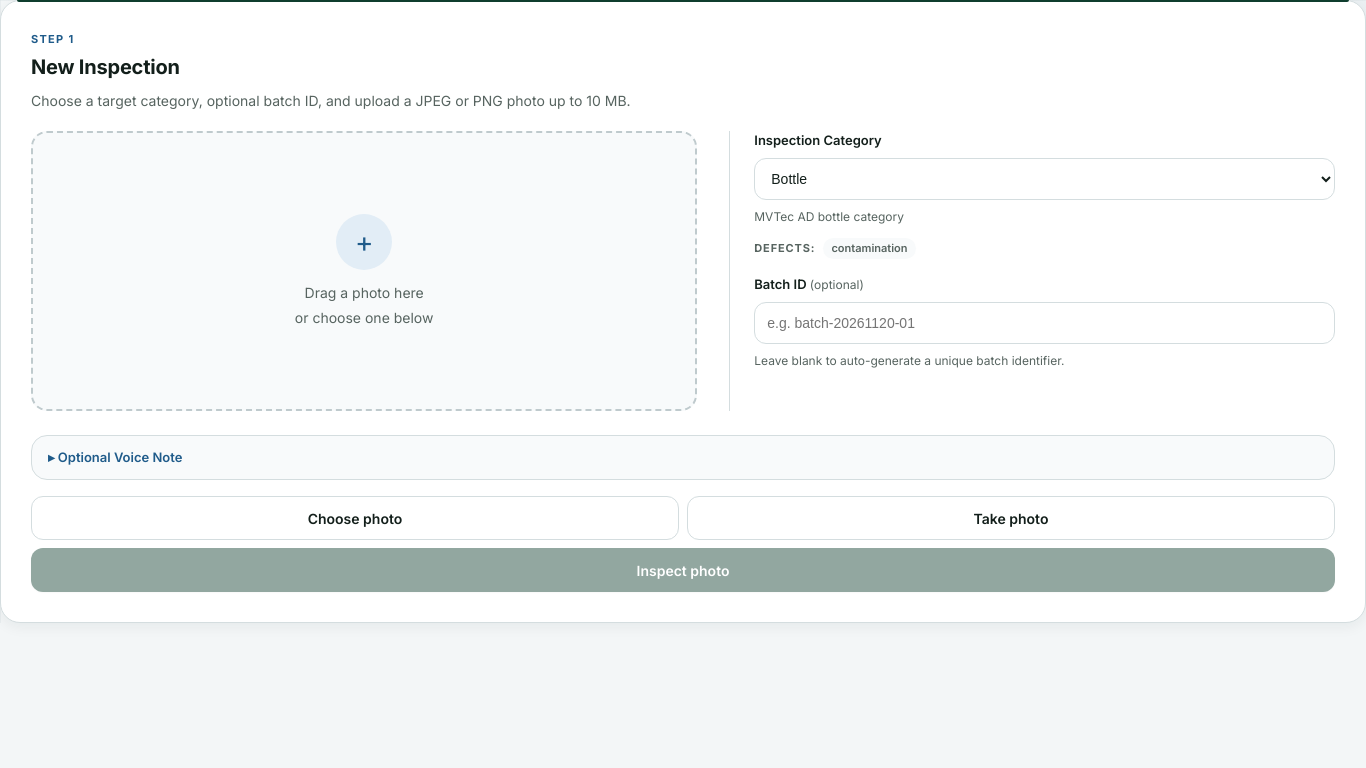
Test case: UploadPanel › explains a denied microphone permission
Click the button "▸ Optional Voice Note": {"x": 118, "y": 456} [48,448,1318,467]
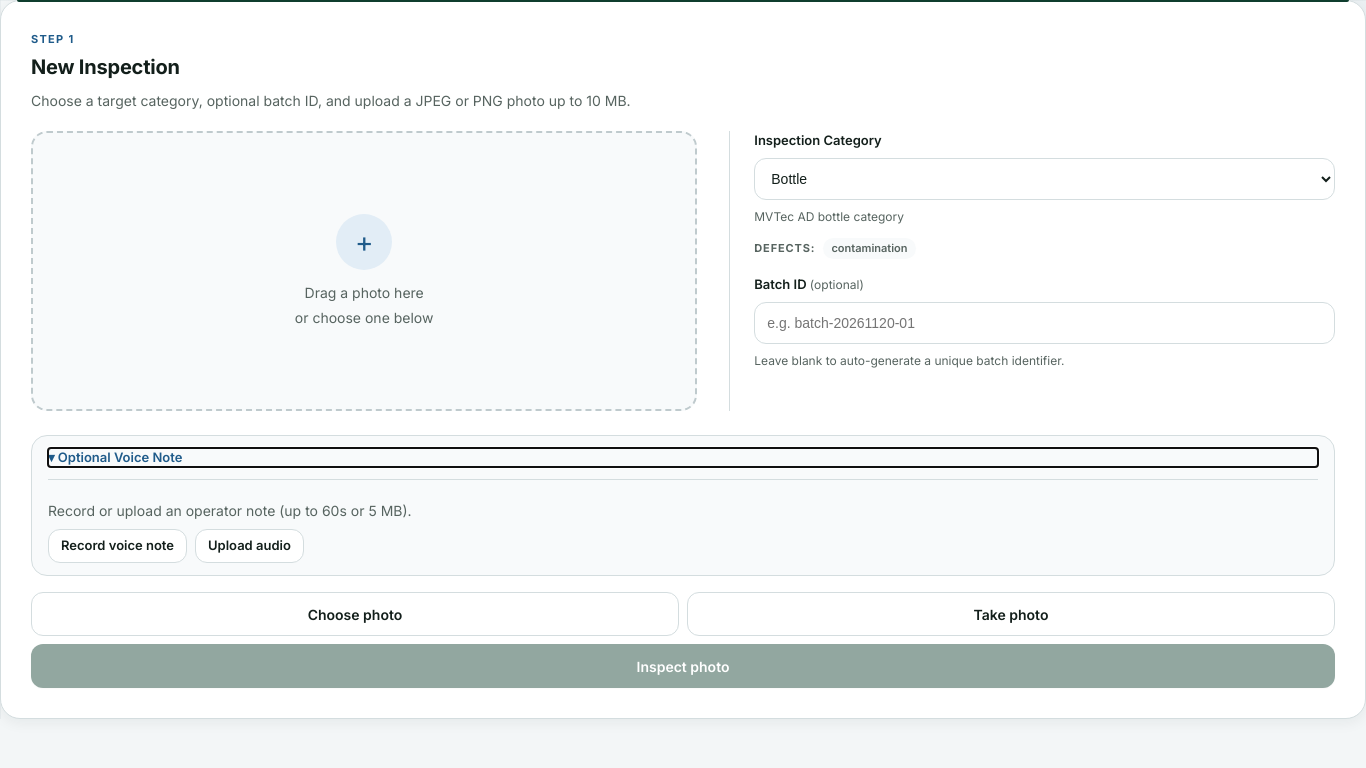
Click the button "Record voice note": {"x": 118, "y": 546} [48,529,187,563]
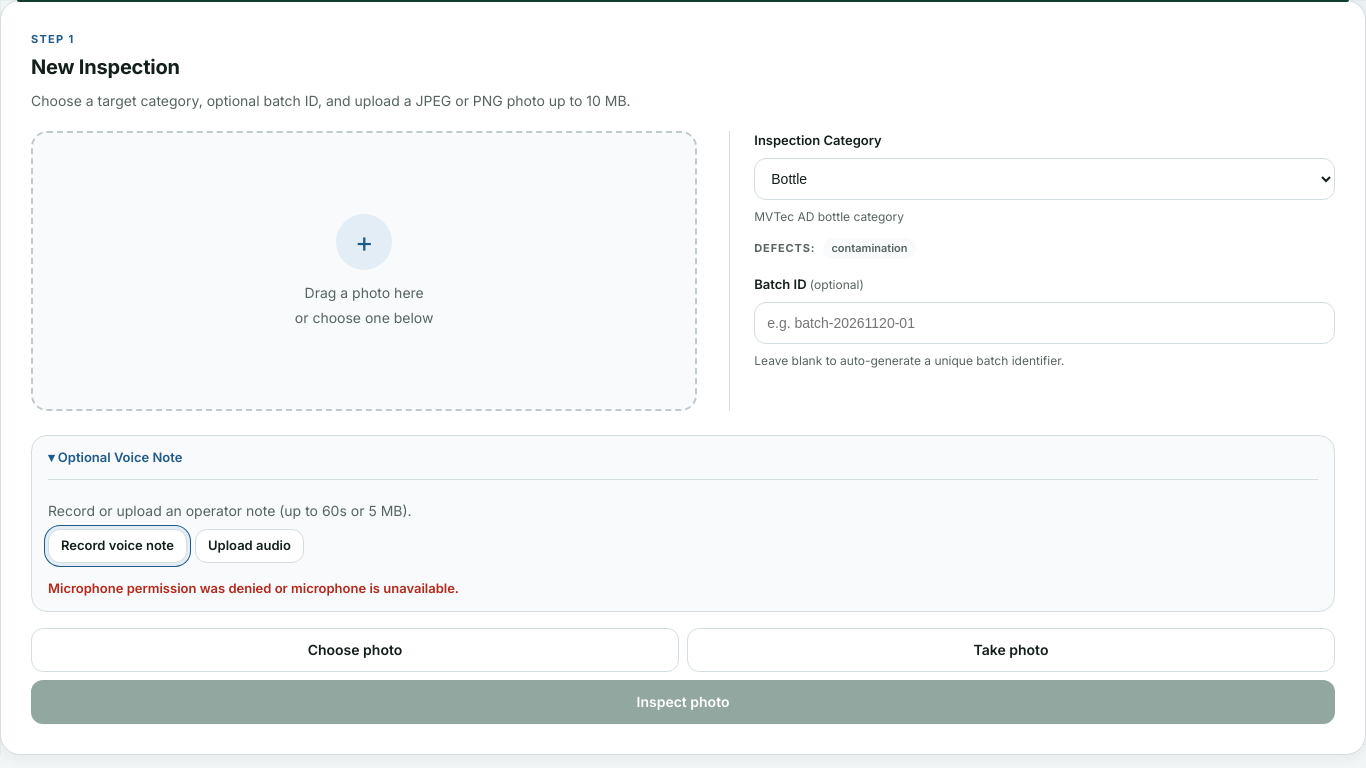
Expected: the message reads "Microphone permission was denied or microphone is unavailable.", [48,580,459,596]
